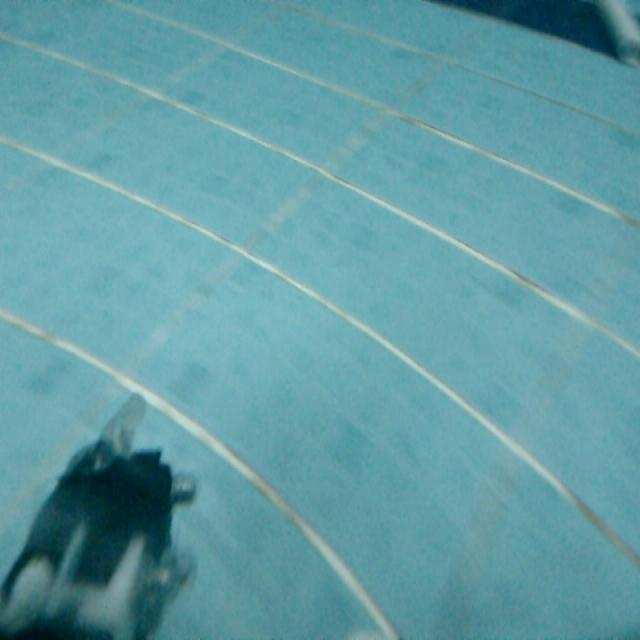Cube: (591, 0, 639, 61)
